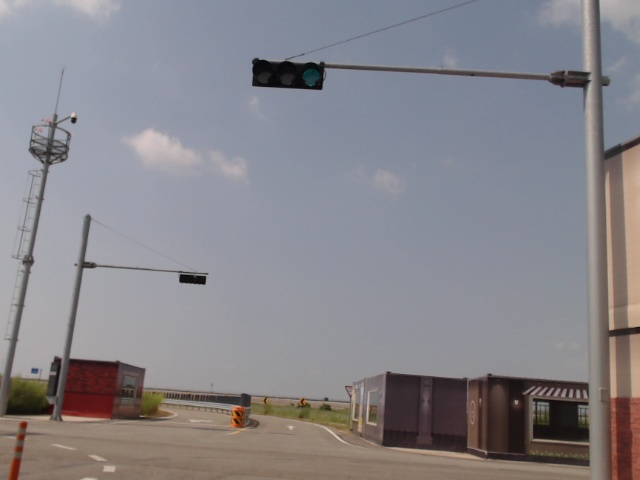green_3: (252, 59, 324, 90)
